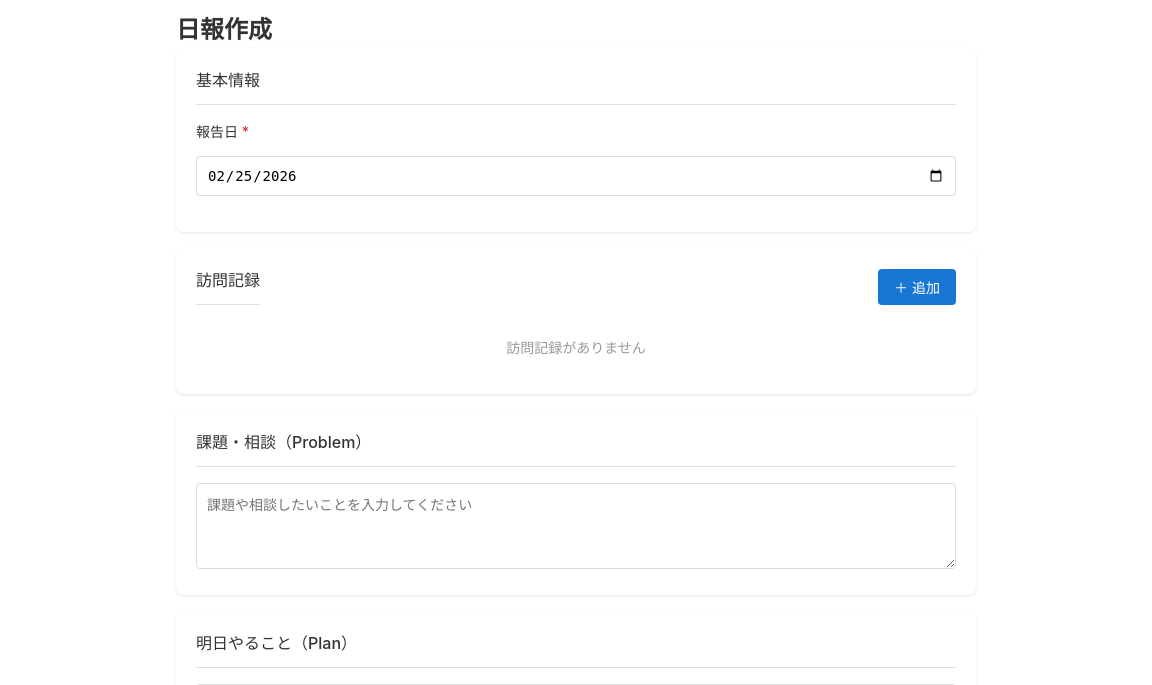
Test: ReportFormPage › 新規作成画面 › should add visit record when clicking add button
What coordinates should you click on to do the following:
click the button "＋ 追加"
I would click on:
 (917, 286)
Its box is [878,268,956,304].
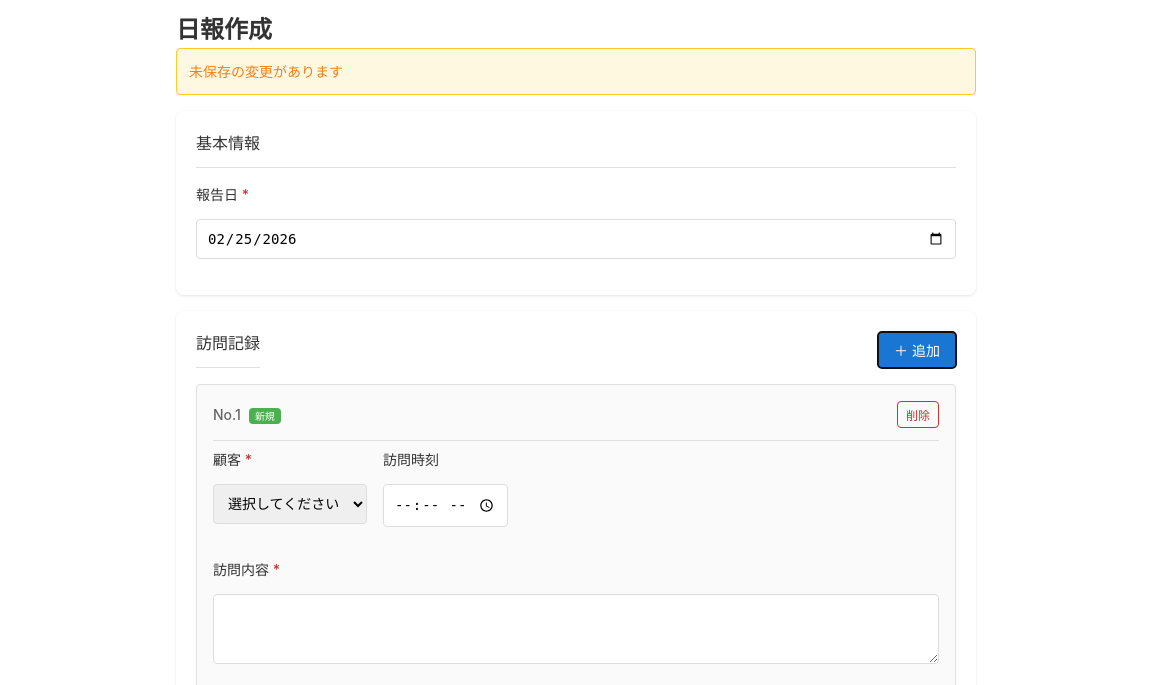
Expected: the text "No.1" is shown, [213,404,281,425]
Expected: the text "新規" is shown, [249,408,281,424]
